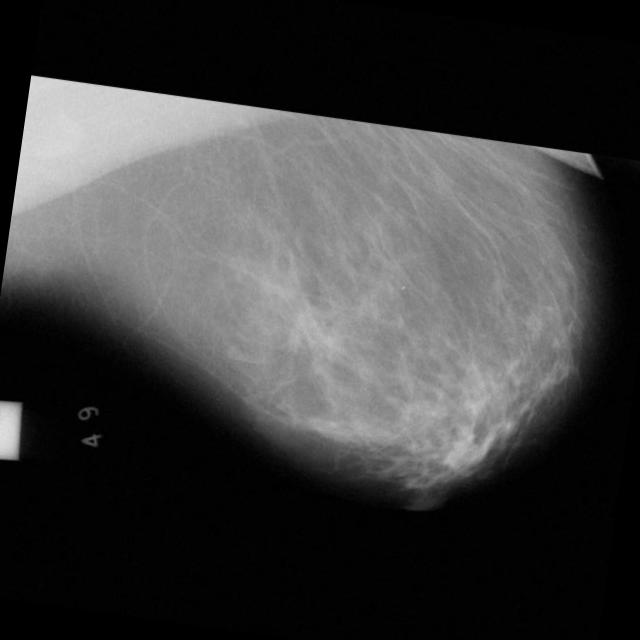ARCH: (271, 292, 357, 378)
